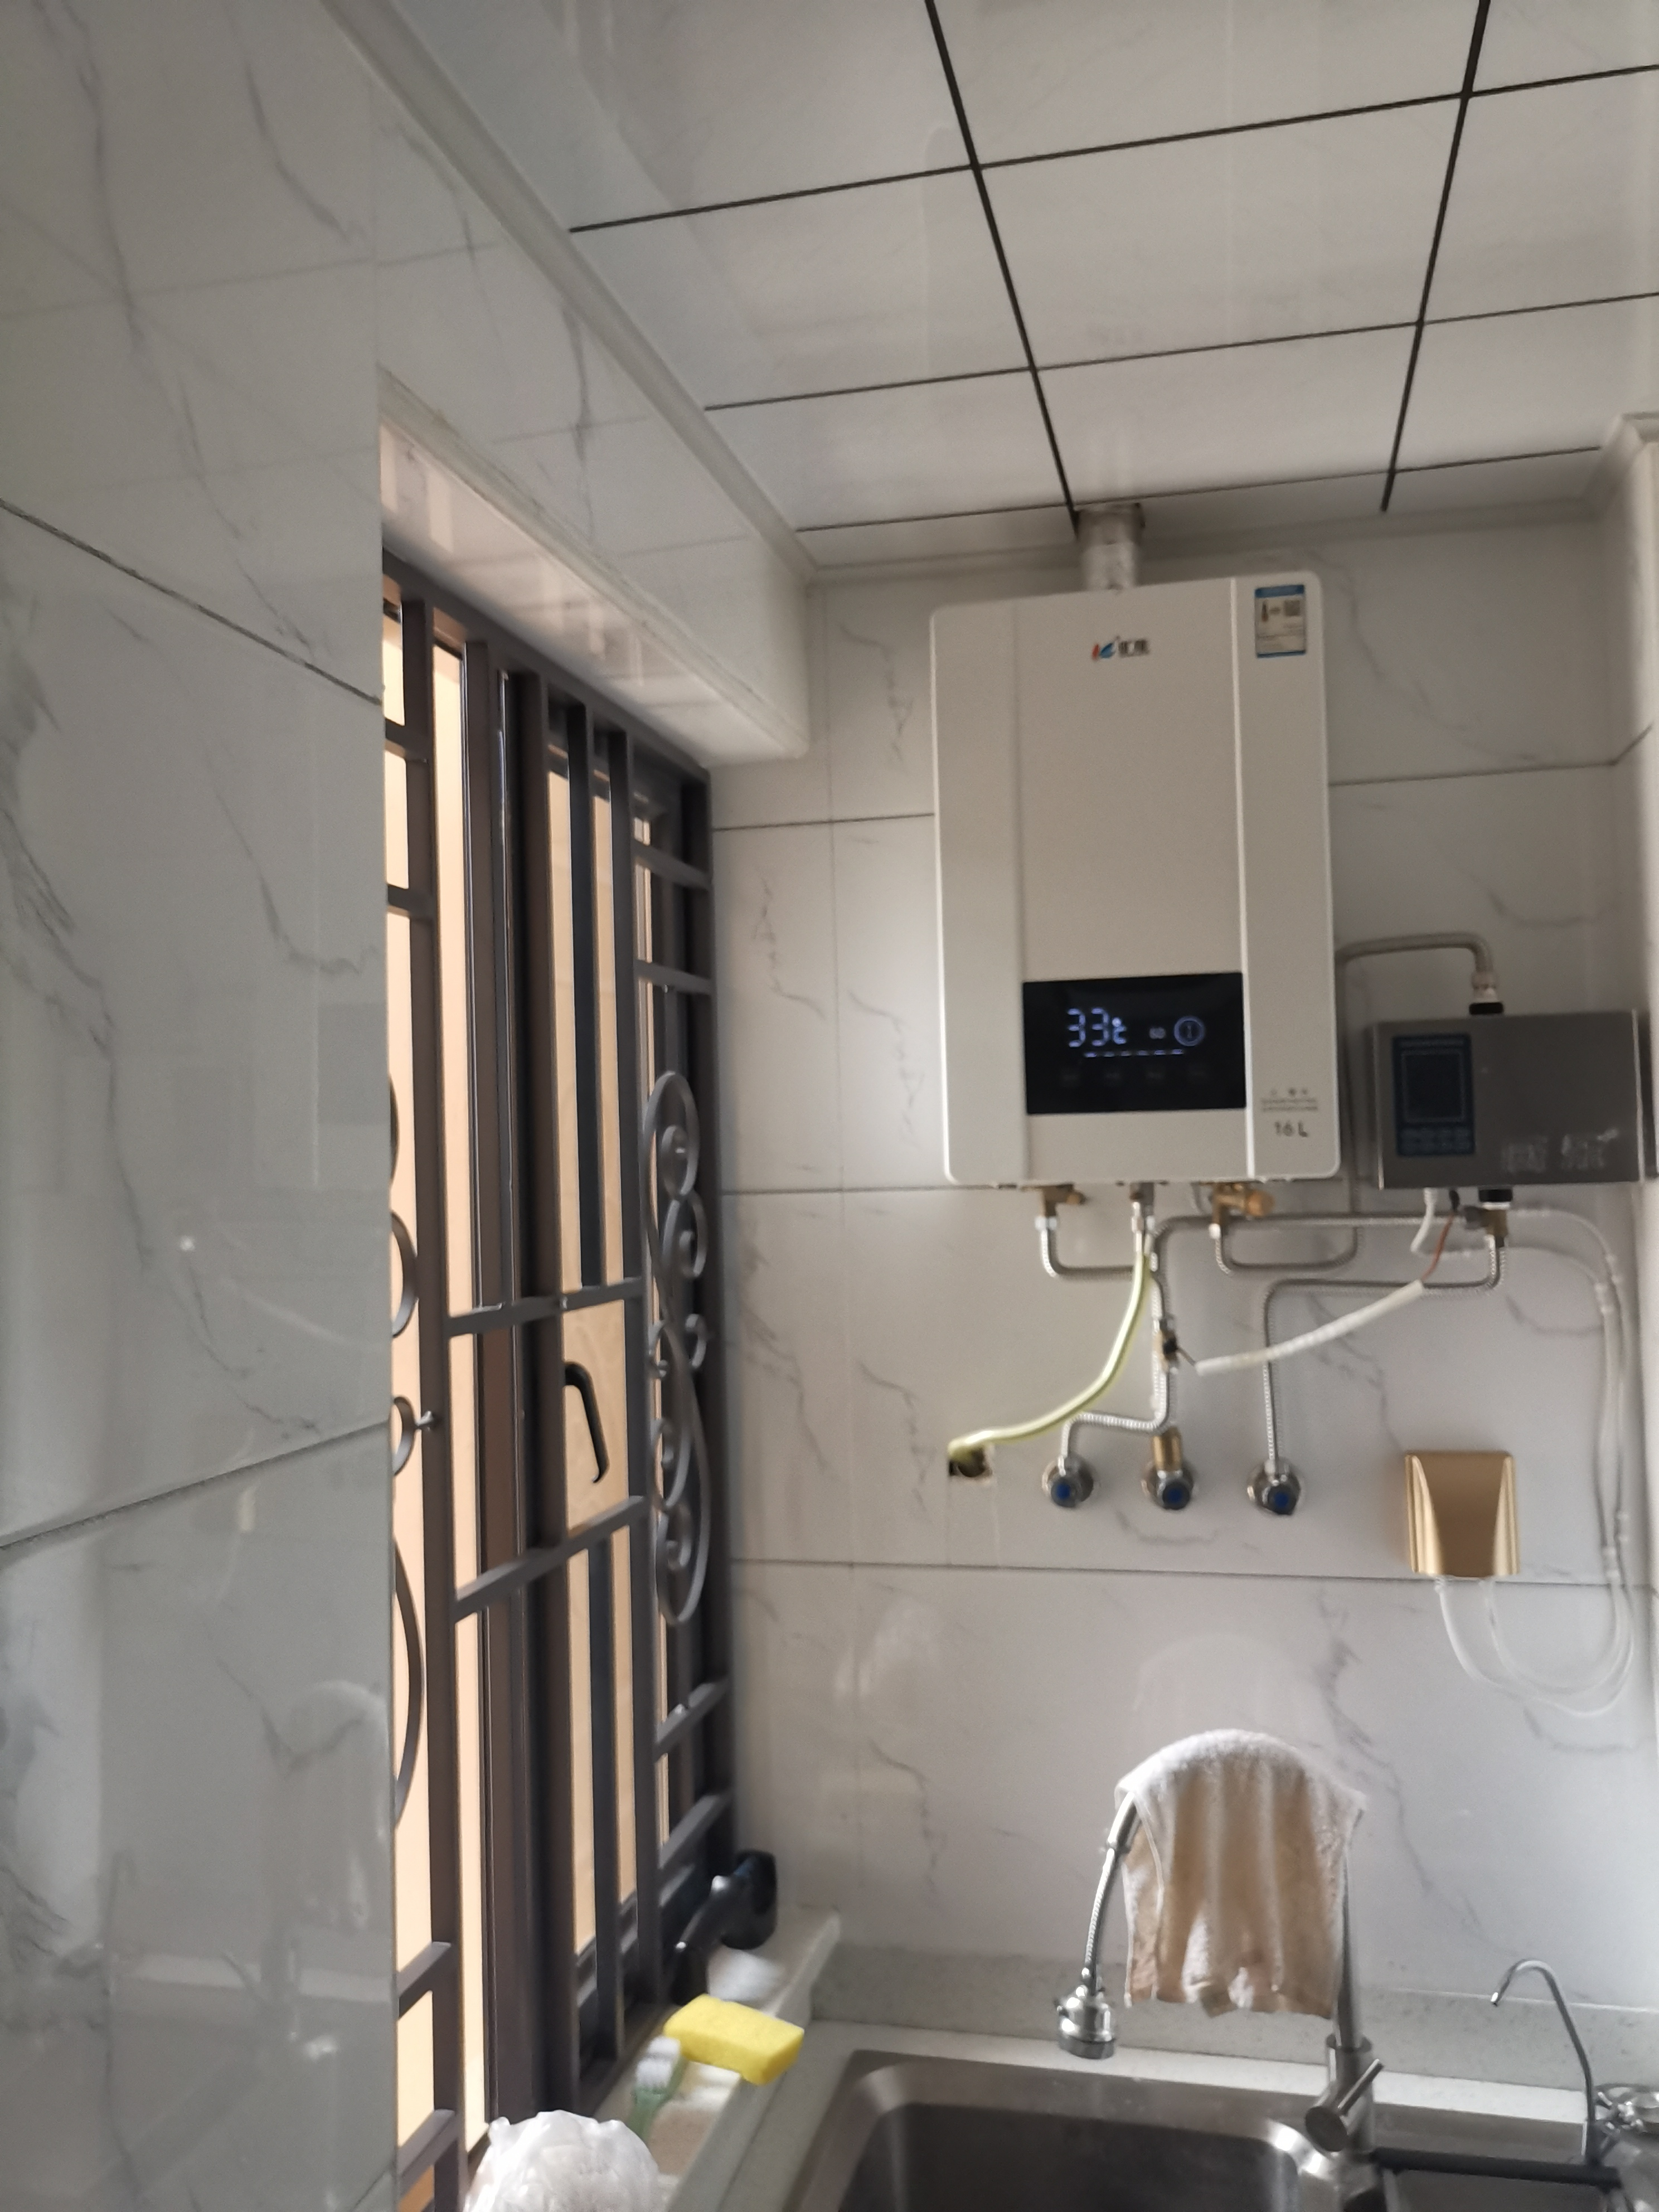loudou: (1075, 634, 1178, 669)
